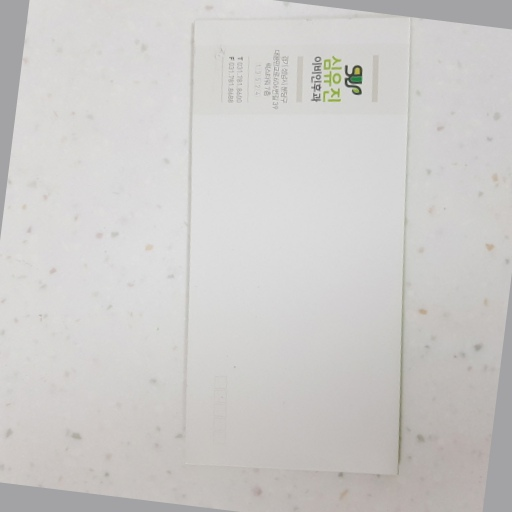Paper_2: (193, 16, 415, 494)
